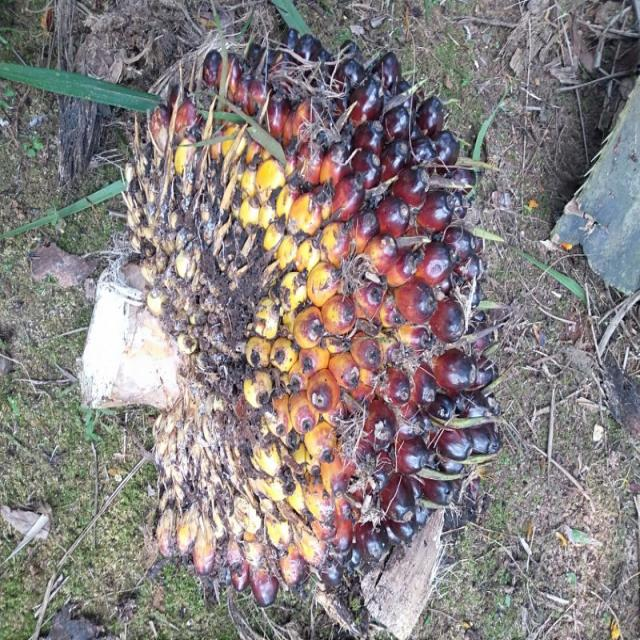fraksi 00: (107, 15, 530, 622)
